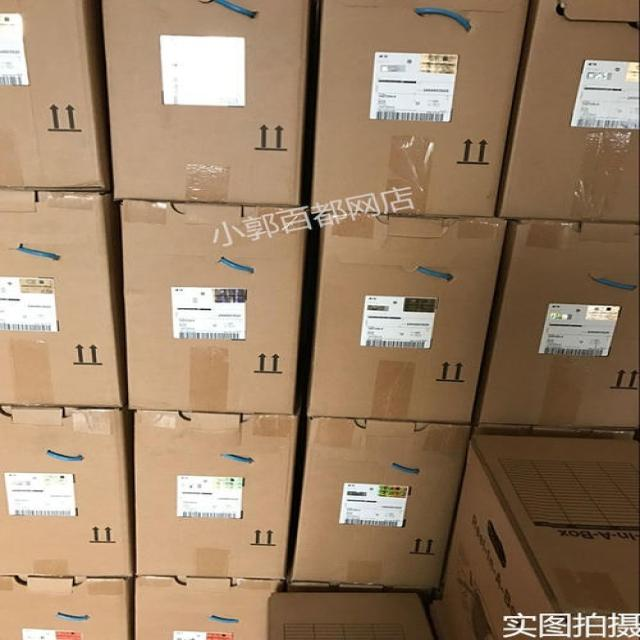box: (102, 0, 309, 207), (305, 212, 507, 423), (436, 435, 639, 639), (120, 199, 309, 413), (472, 219, 639, 431), (494, 0, 639, 224), (287, 416, 471, 588), (135, 391, 301, 579), (0, 188, 128, 407), (0, 403, 137, 576), (134, 575, 283, 639), (0, 574, 135, 639), (268, 592, 434, 639), (285, 574, 432, 617), (468, 417, 635, 441), (426, 600, 447, 639)
